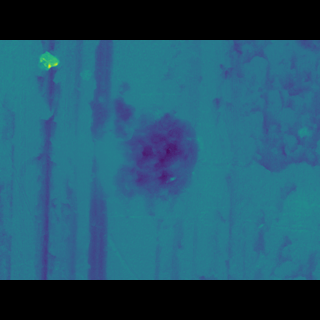Loch: (60, 91, 319, 221)
